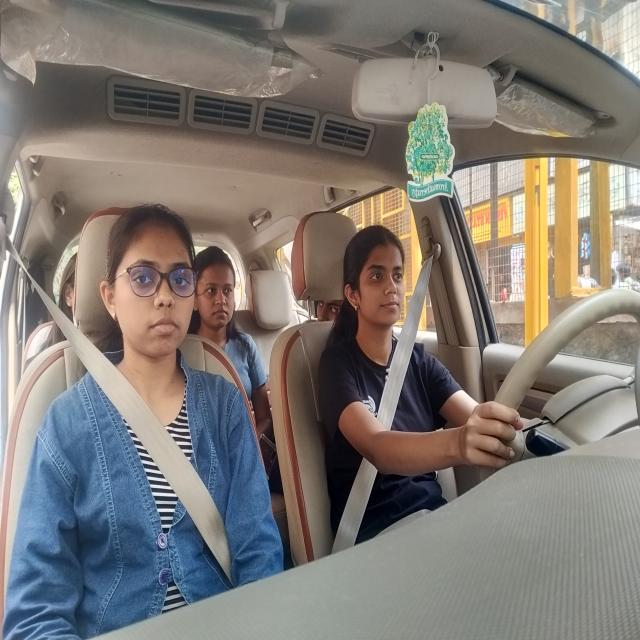person: (96, 200, 200, 361), (339, 222, 410, 332), (190, 238, 238, 333), (57, 262, 82, 332)
